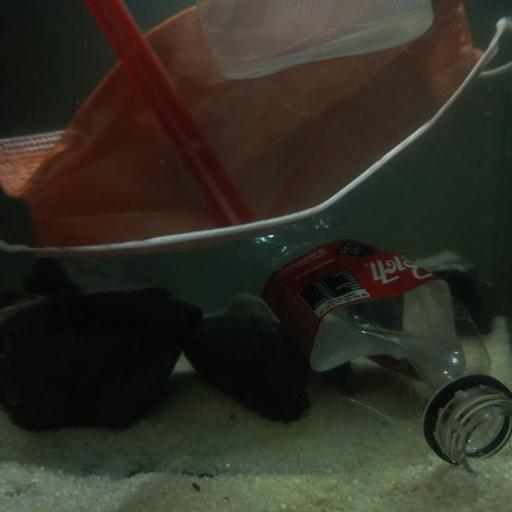mask: (0, 2, 512, 258)
plastic_bottle: (238, 213, 512, 469)
plastic_straw: (87, 2, 247, 225)
